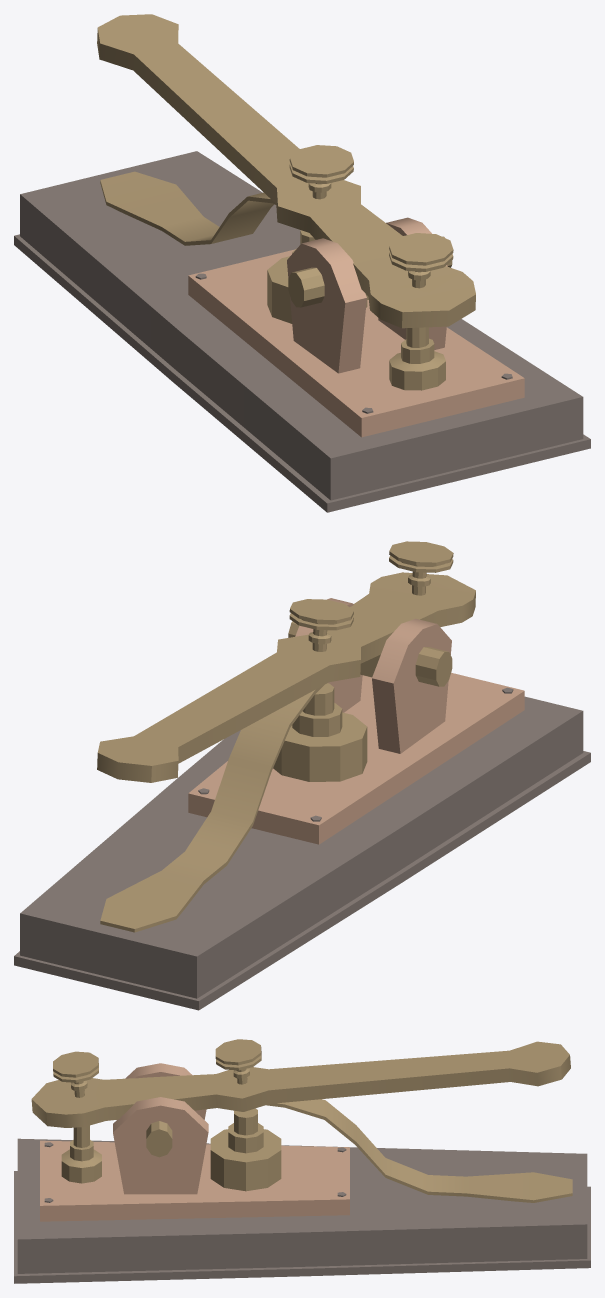
File: Telegrafo.fbx
3 views of the same model, one above another, from view 1: azimuth 30°, elevation 25°; view 2: azimuth 150°, elevation 25°; view 3: azimuth 270°, elevation 25° (orthographic). The views are drawn at different scales.
Visible parts, largest first — view 1: polySurface6, polySurface16, polySurface7, polySurface10, polySurface18, polySurface9, polySurface15, polySurface12, polySurface8, polySurface17, polySurface11; view 2: polySurface6, polySurface16, polySurface7, polySurface18, polySurface10, polySurface8, polySurface15, polySurface12, polySurface17, polySurface11; view 3: polySurface6, polySurface16, polySurface7, polySurface11, polySurface18, polySurface8, polySurface9, polySurface12, polySurface15, polySurface17, polySurface10.
Boxes of the visible parts, x1,y1,x2,y2 form: polySurface6: (14,151,590,512); polySurface16: (97,14,475,328); polySurface7: (188,249,524,437); polySurface10: (287,238,366,373); polySurface18: (100,171,276,245); polySurface9: (389,327,445,390); polySurface15: (389,233,453,271); polySurface12: (289,145,353,183); polySurface8: (267,230,367,323); polySurface17: (288,236,452,307); polySurface11: (378,217,447,349); polySurface6: (14,696,590,1010); polySurface16: (97,572,475,782); polySurface7: (188,672,524,844); polySurface18: (100,685,323,932); polySurface10: (372,618,451,753); polySurface8: (273,683,367,781); polySurface15: (389,541,453,572); polySurface12: (289,599,353,630); polySurface17: (288,621,452,686); polySurface11: (295,598,362,712); polySurface6: (14,1138,590,1283); polySurface16: (31,1041,570,1127); polySurface7: (40,1140,349,1221); polySurface11: (113,1097,208,1194); polySurface18: (266,1099,572,1202); polySurface8: (210,1108,281,1191); polySurface9: (61,1125,101,1183); polySurface12: (215,1039,261,1070); polySurface15: (53,1051,98,1082); polySurface17: (146,1121,172,1157); polySurface10: (125,1063,206,1119).
Bounding box in the file's own units: 5.38 × 4.34 × 12.45.
